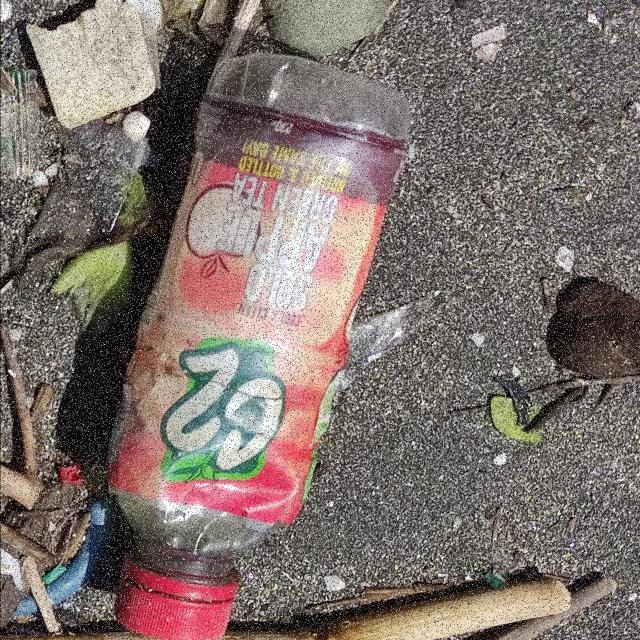plastic_waste: (106, 52, 415, 640)
